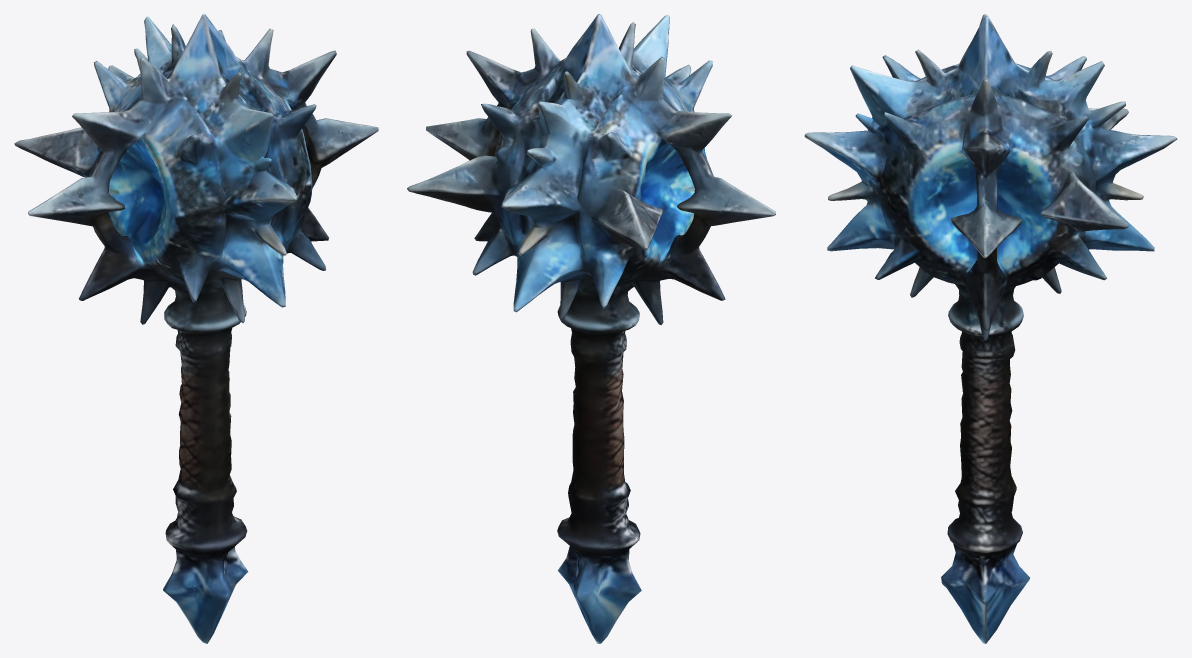
Rendered from frostburst_mace.glb.
The picture shows the model from 3 angles, left to right: view 1: azimuth 30°, elevation 25°; view 2: azimuth 150°, elevation 25°; view 3: azimuth 270°, elevation 25°; orthographic projection.
Visible parts, largest first — view 1: frostburst_mace; view 2: frostburst_mace; view 3: frostburst_mace.
Boxes of the visible parts, x1,y1,x2,y2 form: frostburst_mace: [14, 14, 378, 643]; frostburst_mace: [407, 14, 775, 643]; frostburst_mace: [804, 14, 1177, 643].
Bounding box in the file's own units: 0.4321 × 0.7433 × 0.4017.
1 material, 1 textured.
